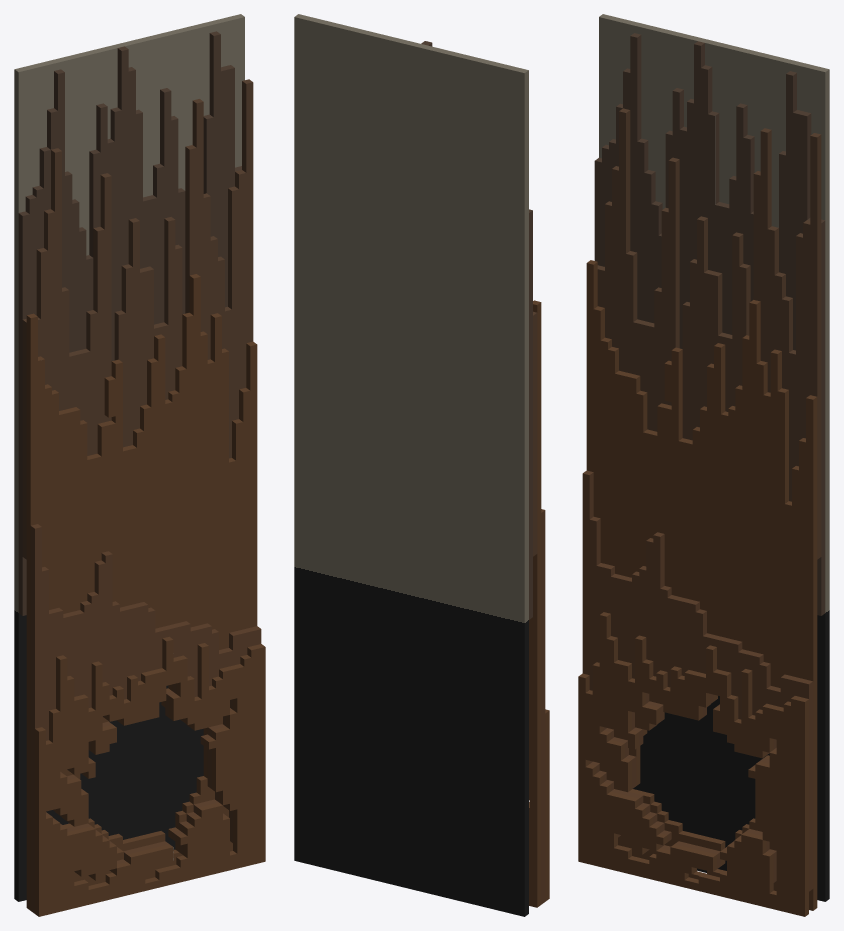
The model's file is scene_cave.glb.
The picture shows the model from 3 angles, left to right: view 1: azimuth 30°, elevation 25°; view 2: azimuth 150°, elevation 25°; view 3: azimuth 330°, elevation 25°; orthographic projection.
Visible parts, largest first — view 1: scene_cave_67, scene_cave_68, scene_cave_65, scene_cave_69, scene_cave_66, scene_cave_64; view 2: scene_cave_68, scene_cave_67, scene_cave_64, scene_cave_66, scene_cave_69, scene_cave_65; view 3: scene_cave_67, scene_cave_68, scene_cave_65, scene_cave_69, scene_cave_66, scene_cave_64.
Boxes of the visible parts, bbox=[...] form: scene_cave_67: bbox=[26, 274, 257, 910]; scene_cave_68: bbox=[14, 14, 244, 901]; scene_cave_65: bbox=[35, 636, 265, 916]; scene_cave_69: bbox=[22, 79, 253, 559]; scene_cave_66: bbox=[18, 31, 241, 615]; scene_cave_64: bbox=[30, 524, 261, 913]; scene_cave_68: bbox=[294, 14, 528, 916]; scene_cave_67: bbox=[529, 300, 541, 907]; scene_cave_64: bbox=[529, 509, 545, 904]; scene_cave_66: bbox=[421, 41, 532, 619]; scene_cave_69: bbox=[533, 311, 537, 556]; scene_cave_65: bbox=[545, 709, 549, 901]; scene_cave_67: bbox=[586, 260, 817, 910]; scene_cave_68: bbox=[599, 14, 829, 901]; scene_cave_65: bbox=[578, 612, 808, 916]; scene_cave_69: bbox=[597, 108, 821, 559]; scene_cave_66: bbox=[594, 33, 825, 615]; scene_cave_64: bbox=[582, 470, 813, 891].
Bounding box in the file's own units: 3.2 × 11.2 × 0.6.
1 material, 1 textured.
